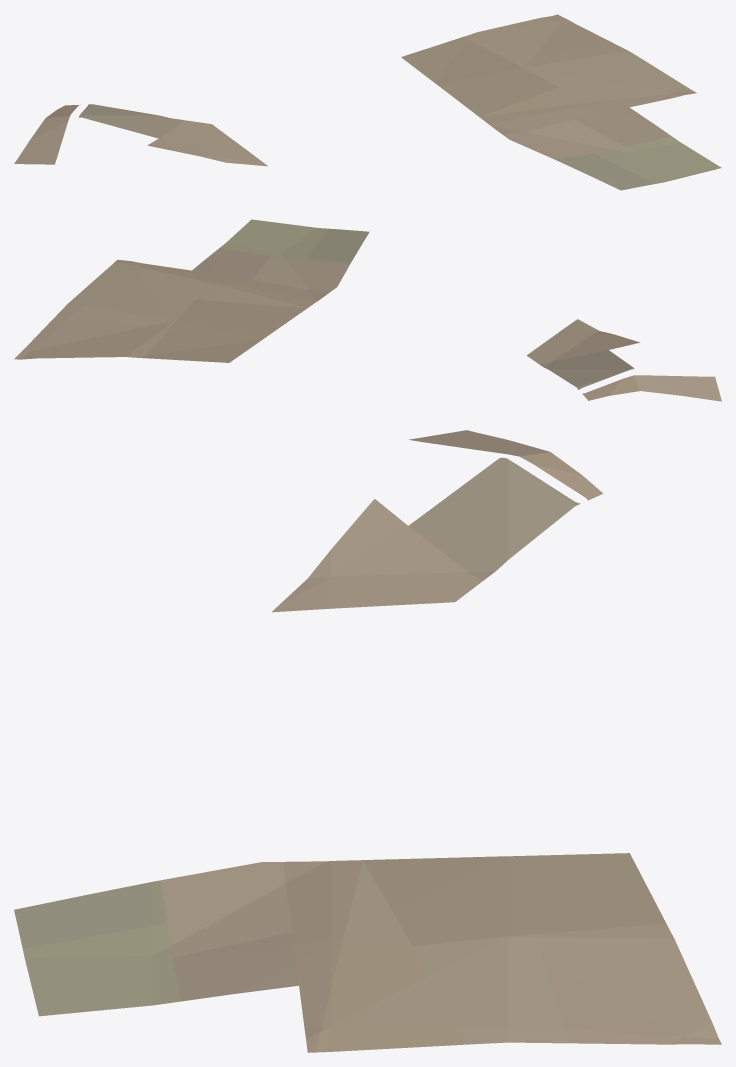
Rendered from farm_-26_-31_soil.glb.
3 views of the same model, one above another, from view 1: azimuth 30°, elevation 25°; view 2: azimuth 150°, elevation 25°; view 3: azimuth 270°, elevation 25° (orthographic). The views are drawn at different scales.
Parts seen in each view (by area): view 1: geometry_0; view 2: geometry_0; view 3: geometry_0.
Boxes of the visible parts, x1,y1,x2,y2 form: geometry_0: [14, 14, 721, 190]; geometry_0: [14, 219, 721, 401]; geometry_0: [14, 430, 721, 1052].
Bounding box in the file's own units: 571 × 65.59 × 319.
